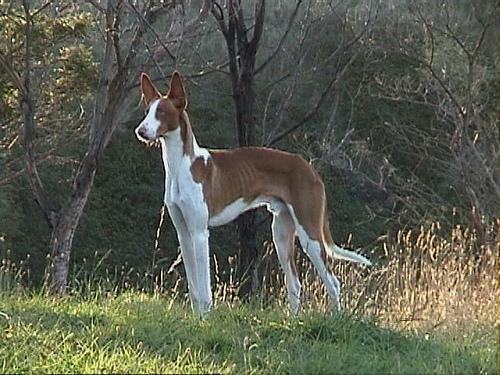Ibizan_hound: (134, 70, 374, 329)
